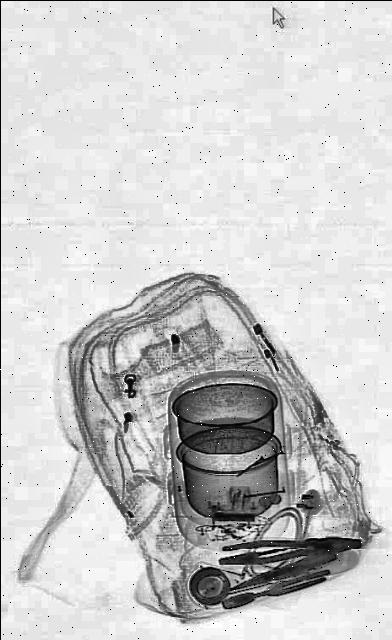Pliers: (219, 562, 330, 612), (216, 529, 360, 567)
